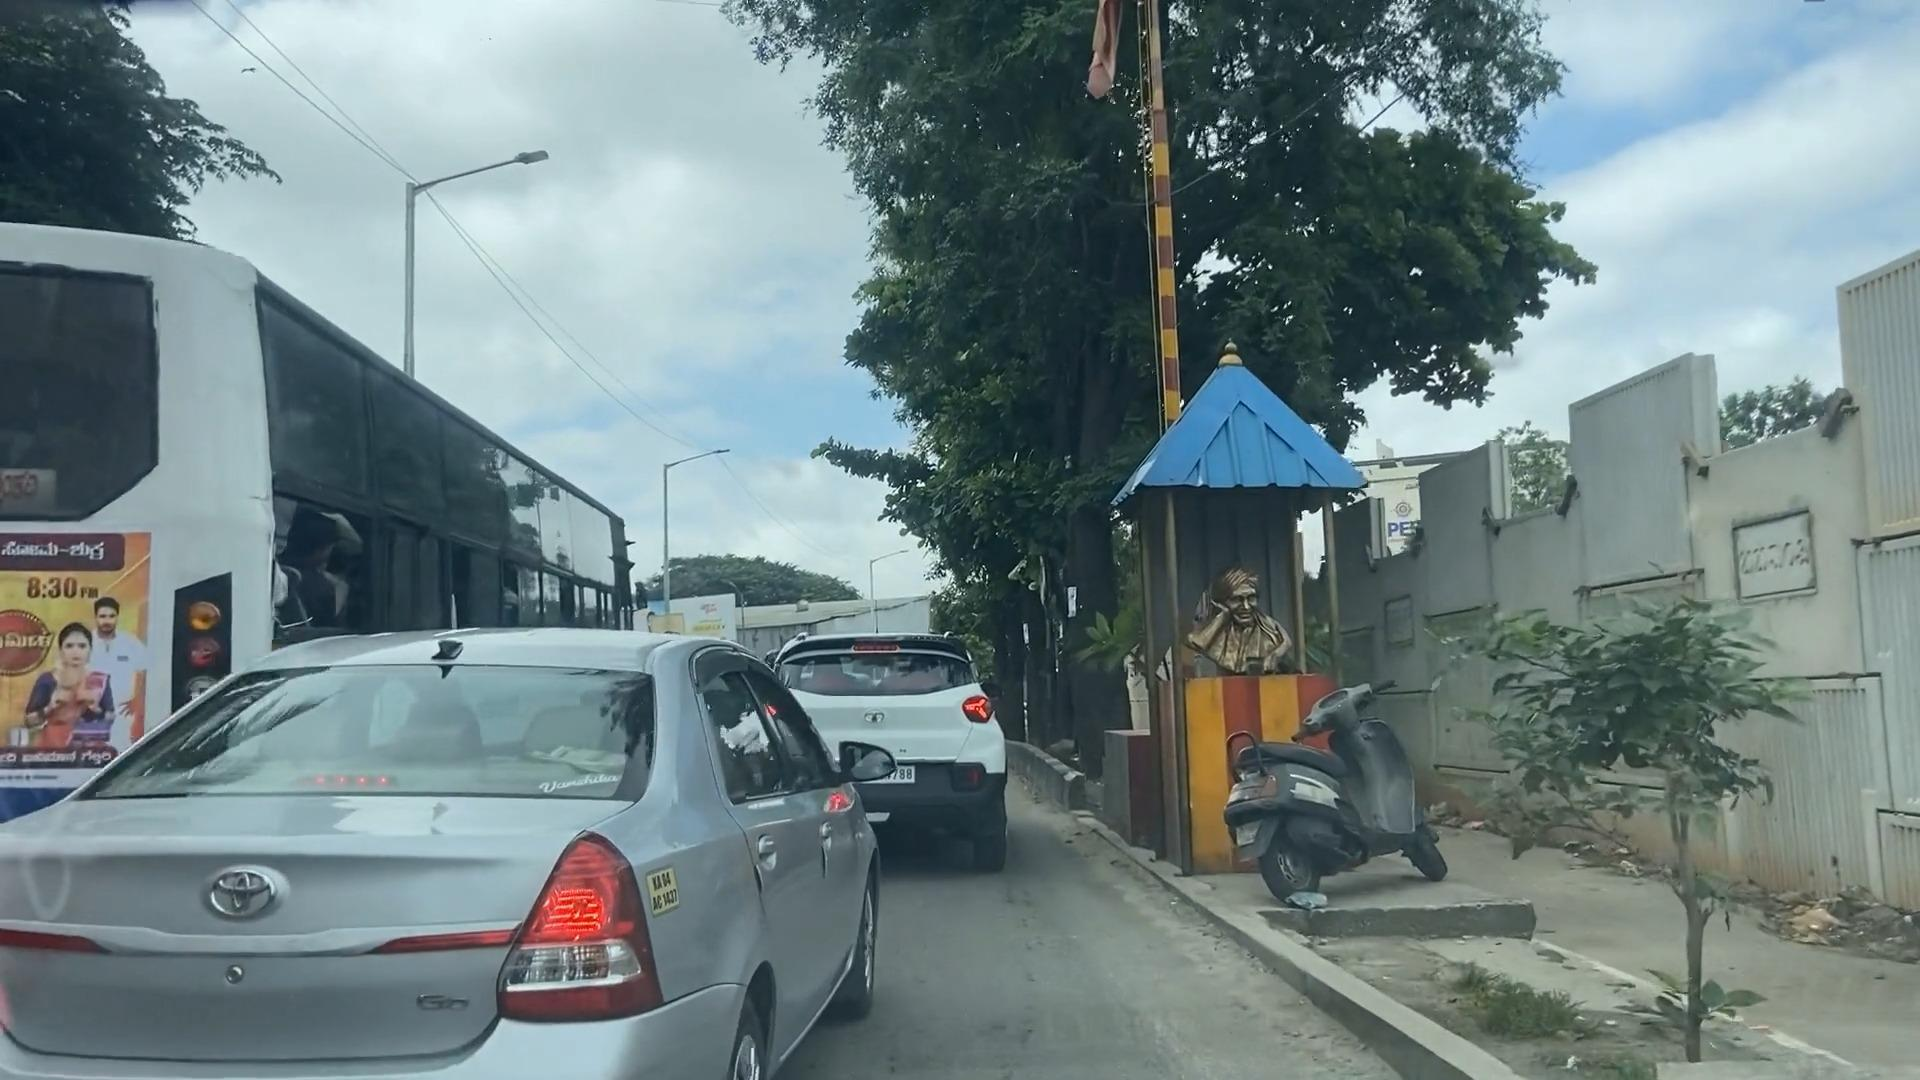LMV: (0, 636, 828, 1080)
